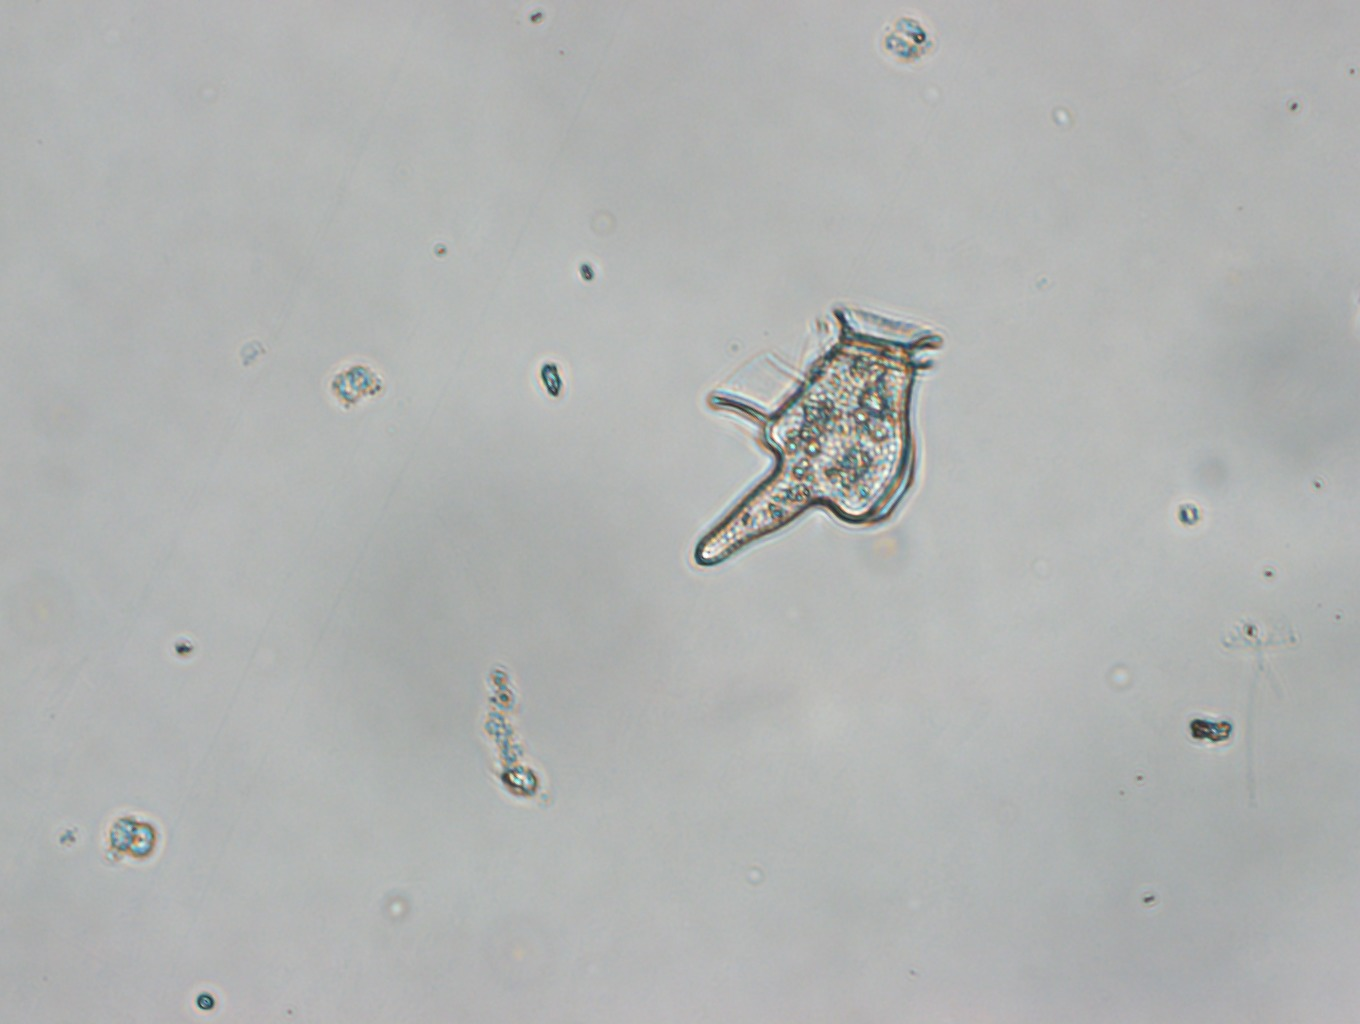dinophysis caudata: (688, 308, 945, 567)
